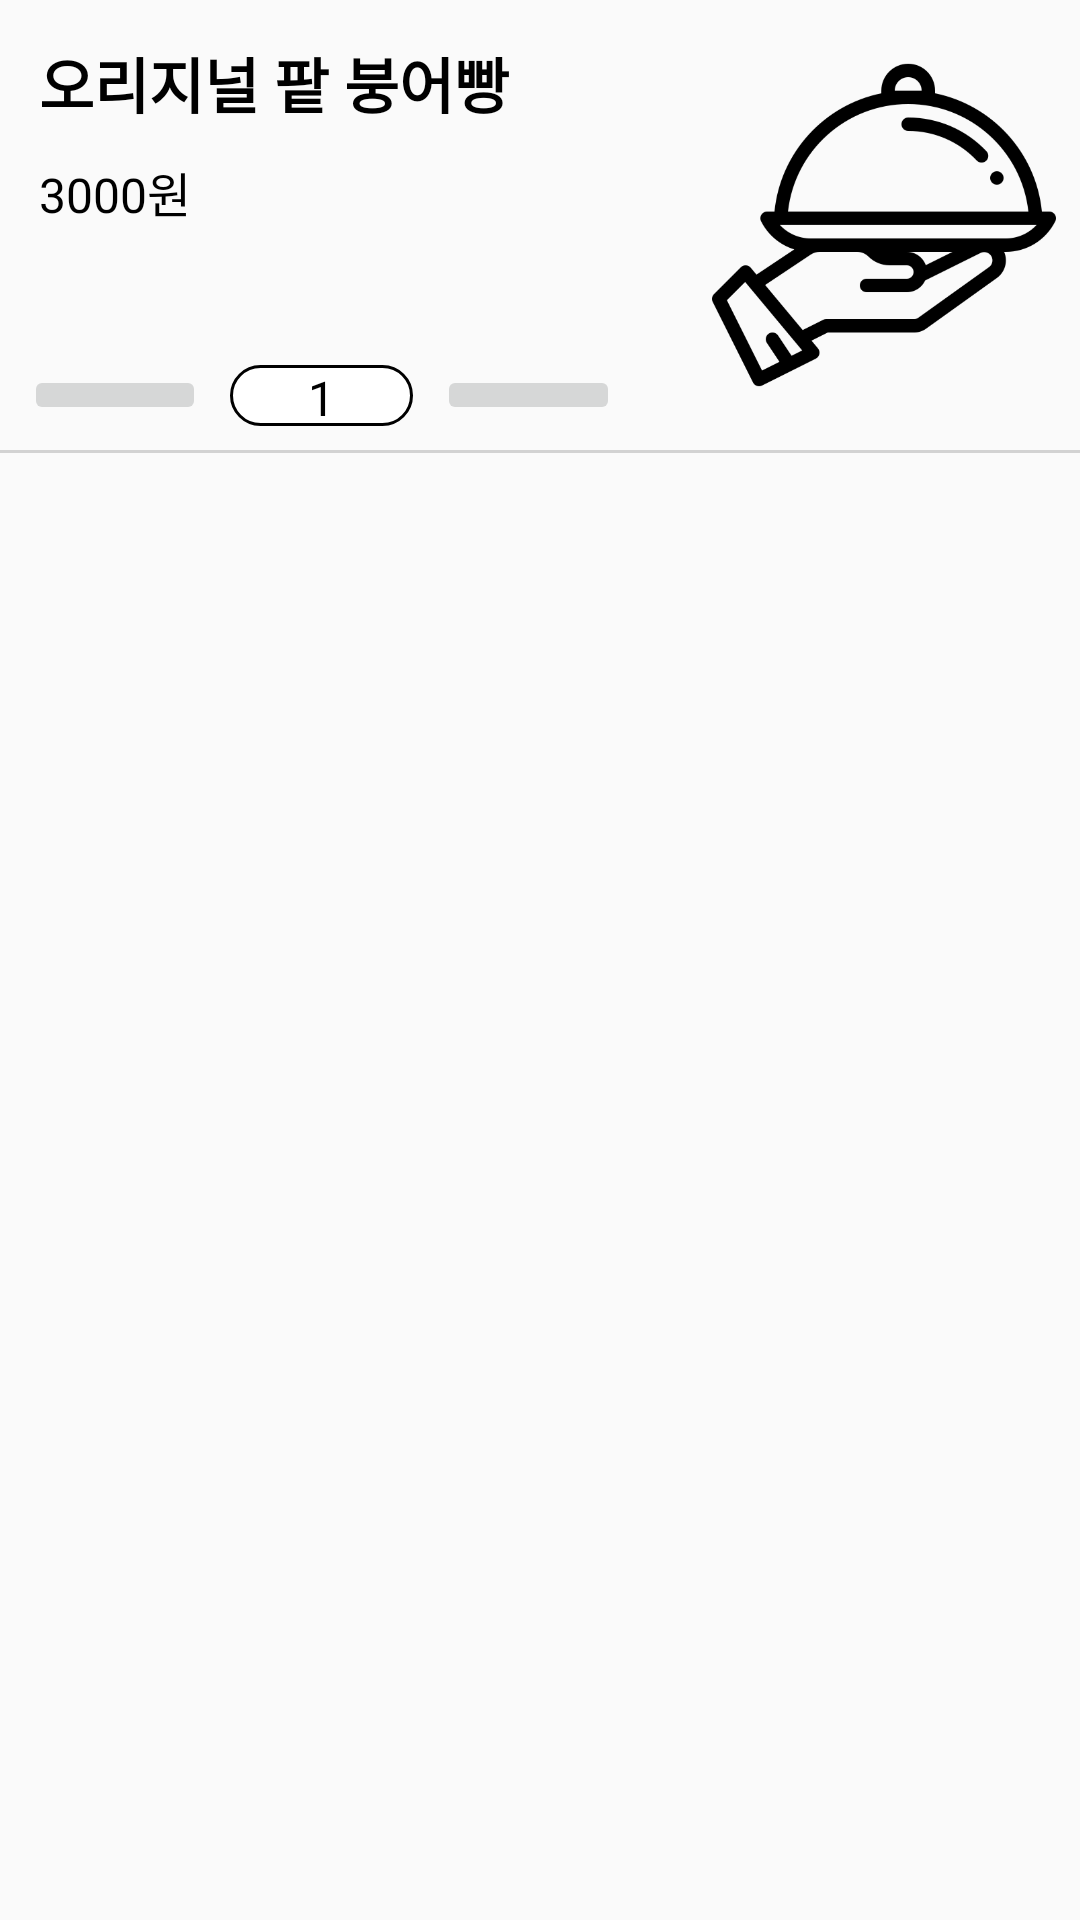

Icons on this 1080×1920 Android screen, each with its box as bbox=[x1, y1, x2, y2]:
dish: bbox=[712, 63, 1056, 387]
